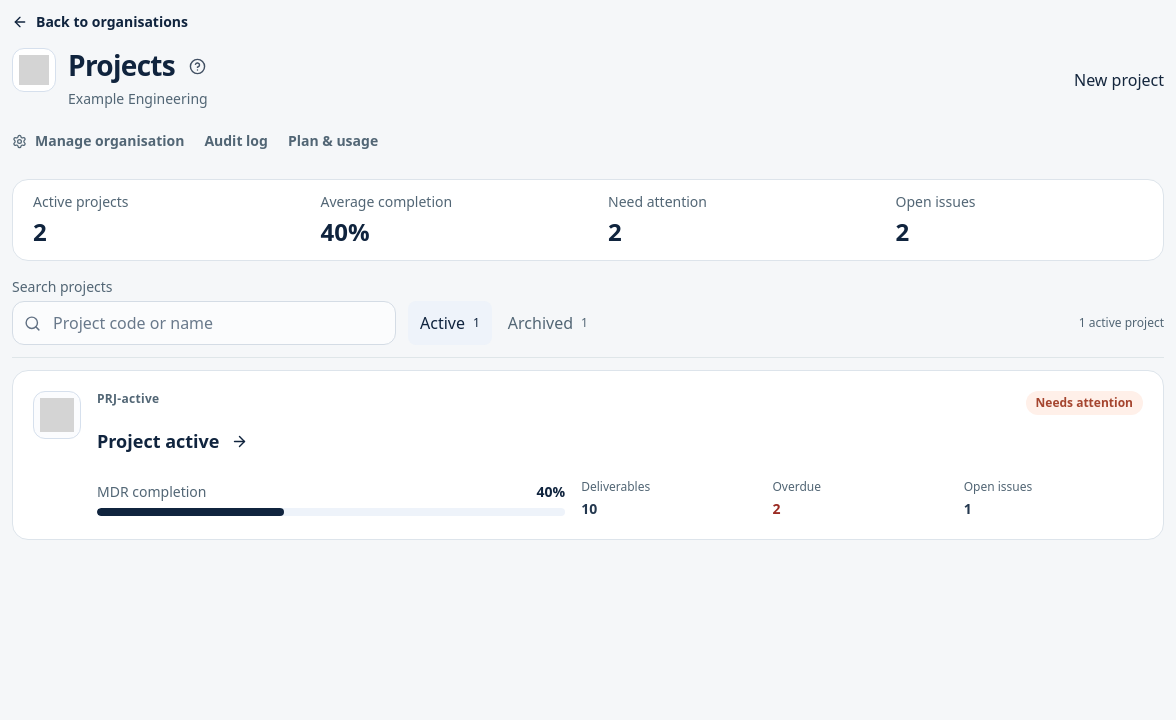
Test: project search and paging › clears an unmatched search through the visible action and restores the selected status view
The width and height of the screenshot is (1176, 720).
Click the button "Archived 1": (548, 323) [496,301,600,345]
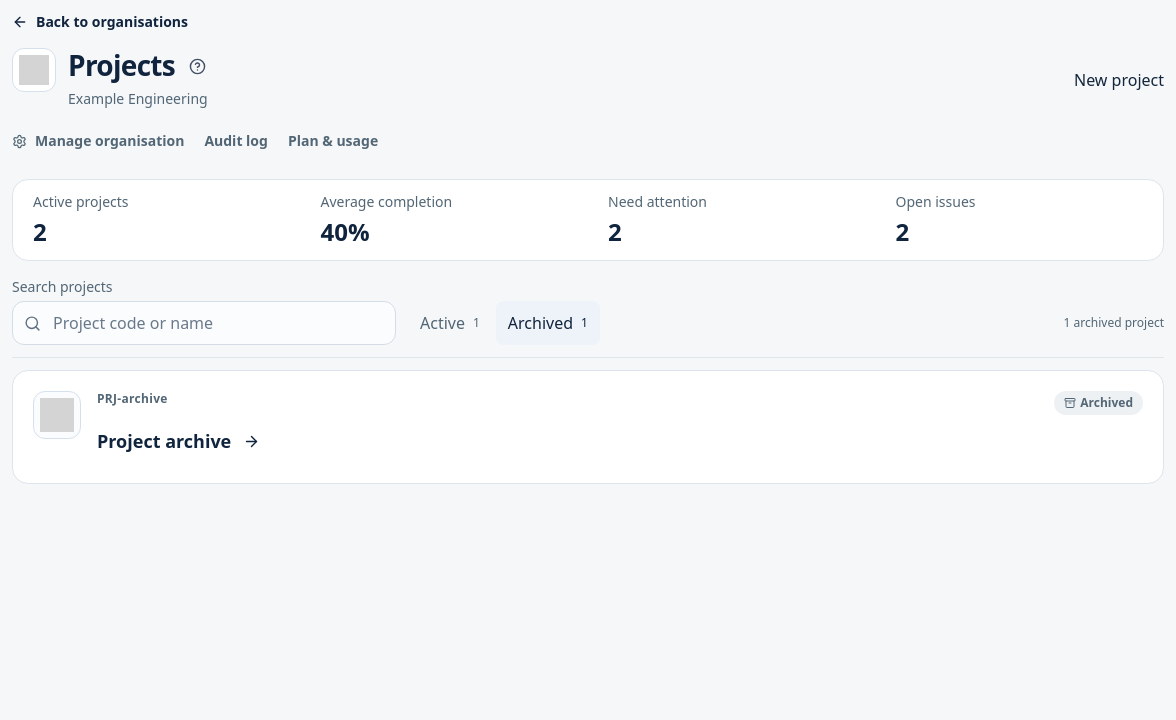
In the search field labelled "Search projects": (204, 323) [12,301,396,345], type "does not exist"
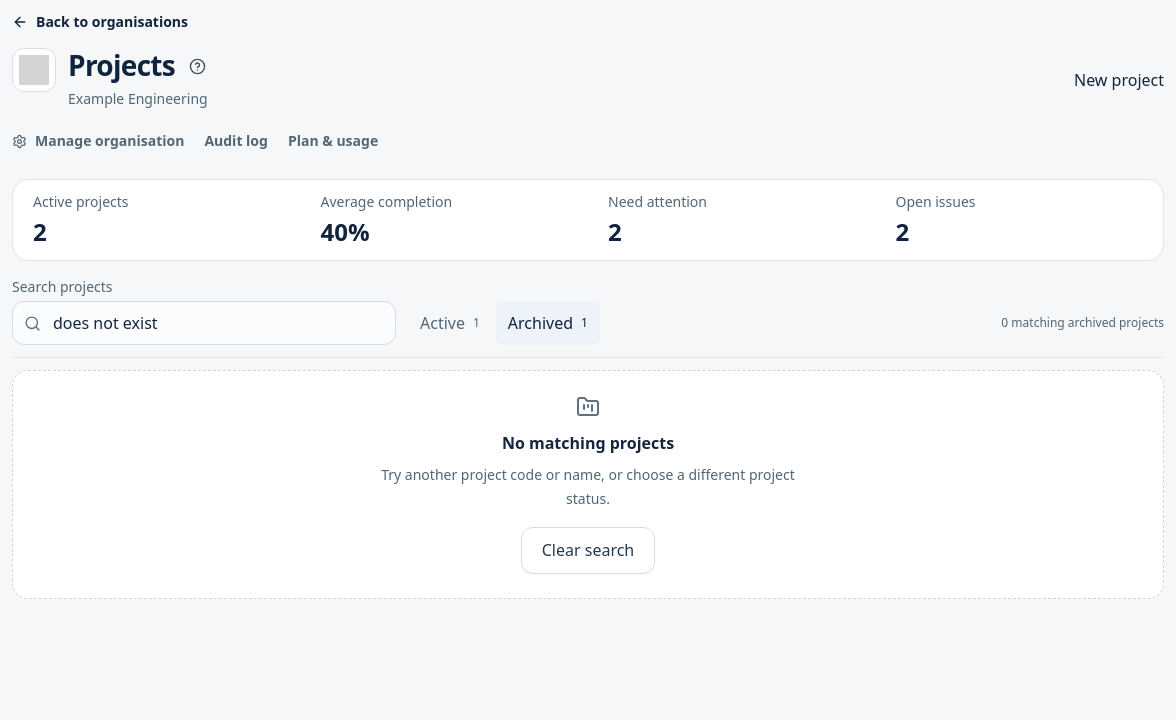
Check: the heading "No matching projects" is shown, box [502,432,674,454]
Check: the message reads "0 matching archived projects", box [1001,315,1164,331]
Click the button "Clear search": (588, 550) [521,527,655,574]
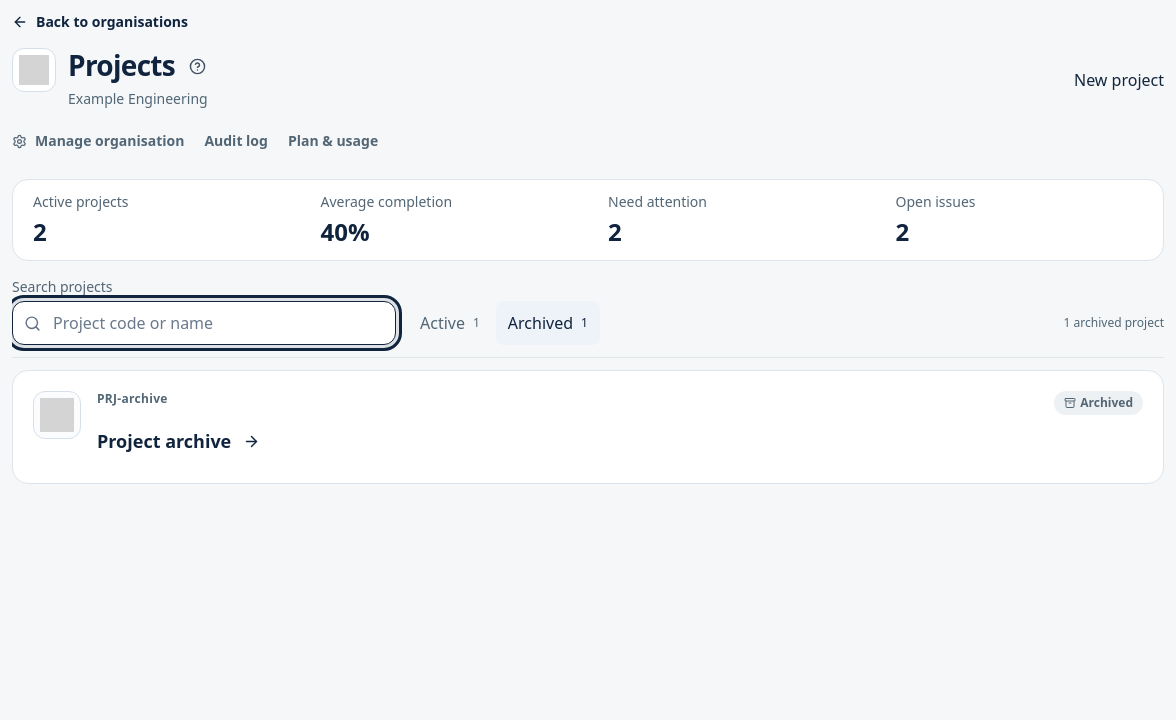
Check: the search field labelled "Search projects" is empty, box [12,301,396,345]
